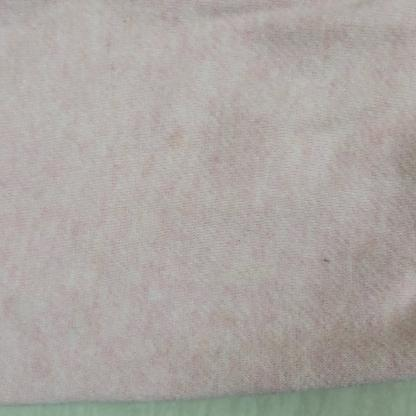spot: (160, 121, 185, 149)
